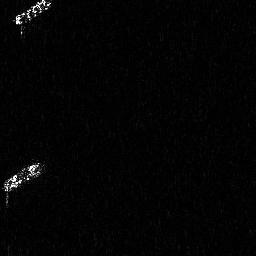ship: (1, 155, 49, 208), (11, 1, 53, 38)
